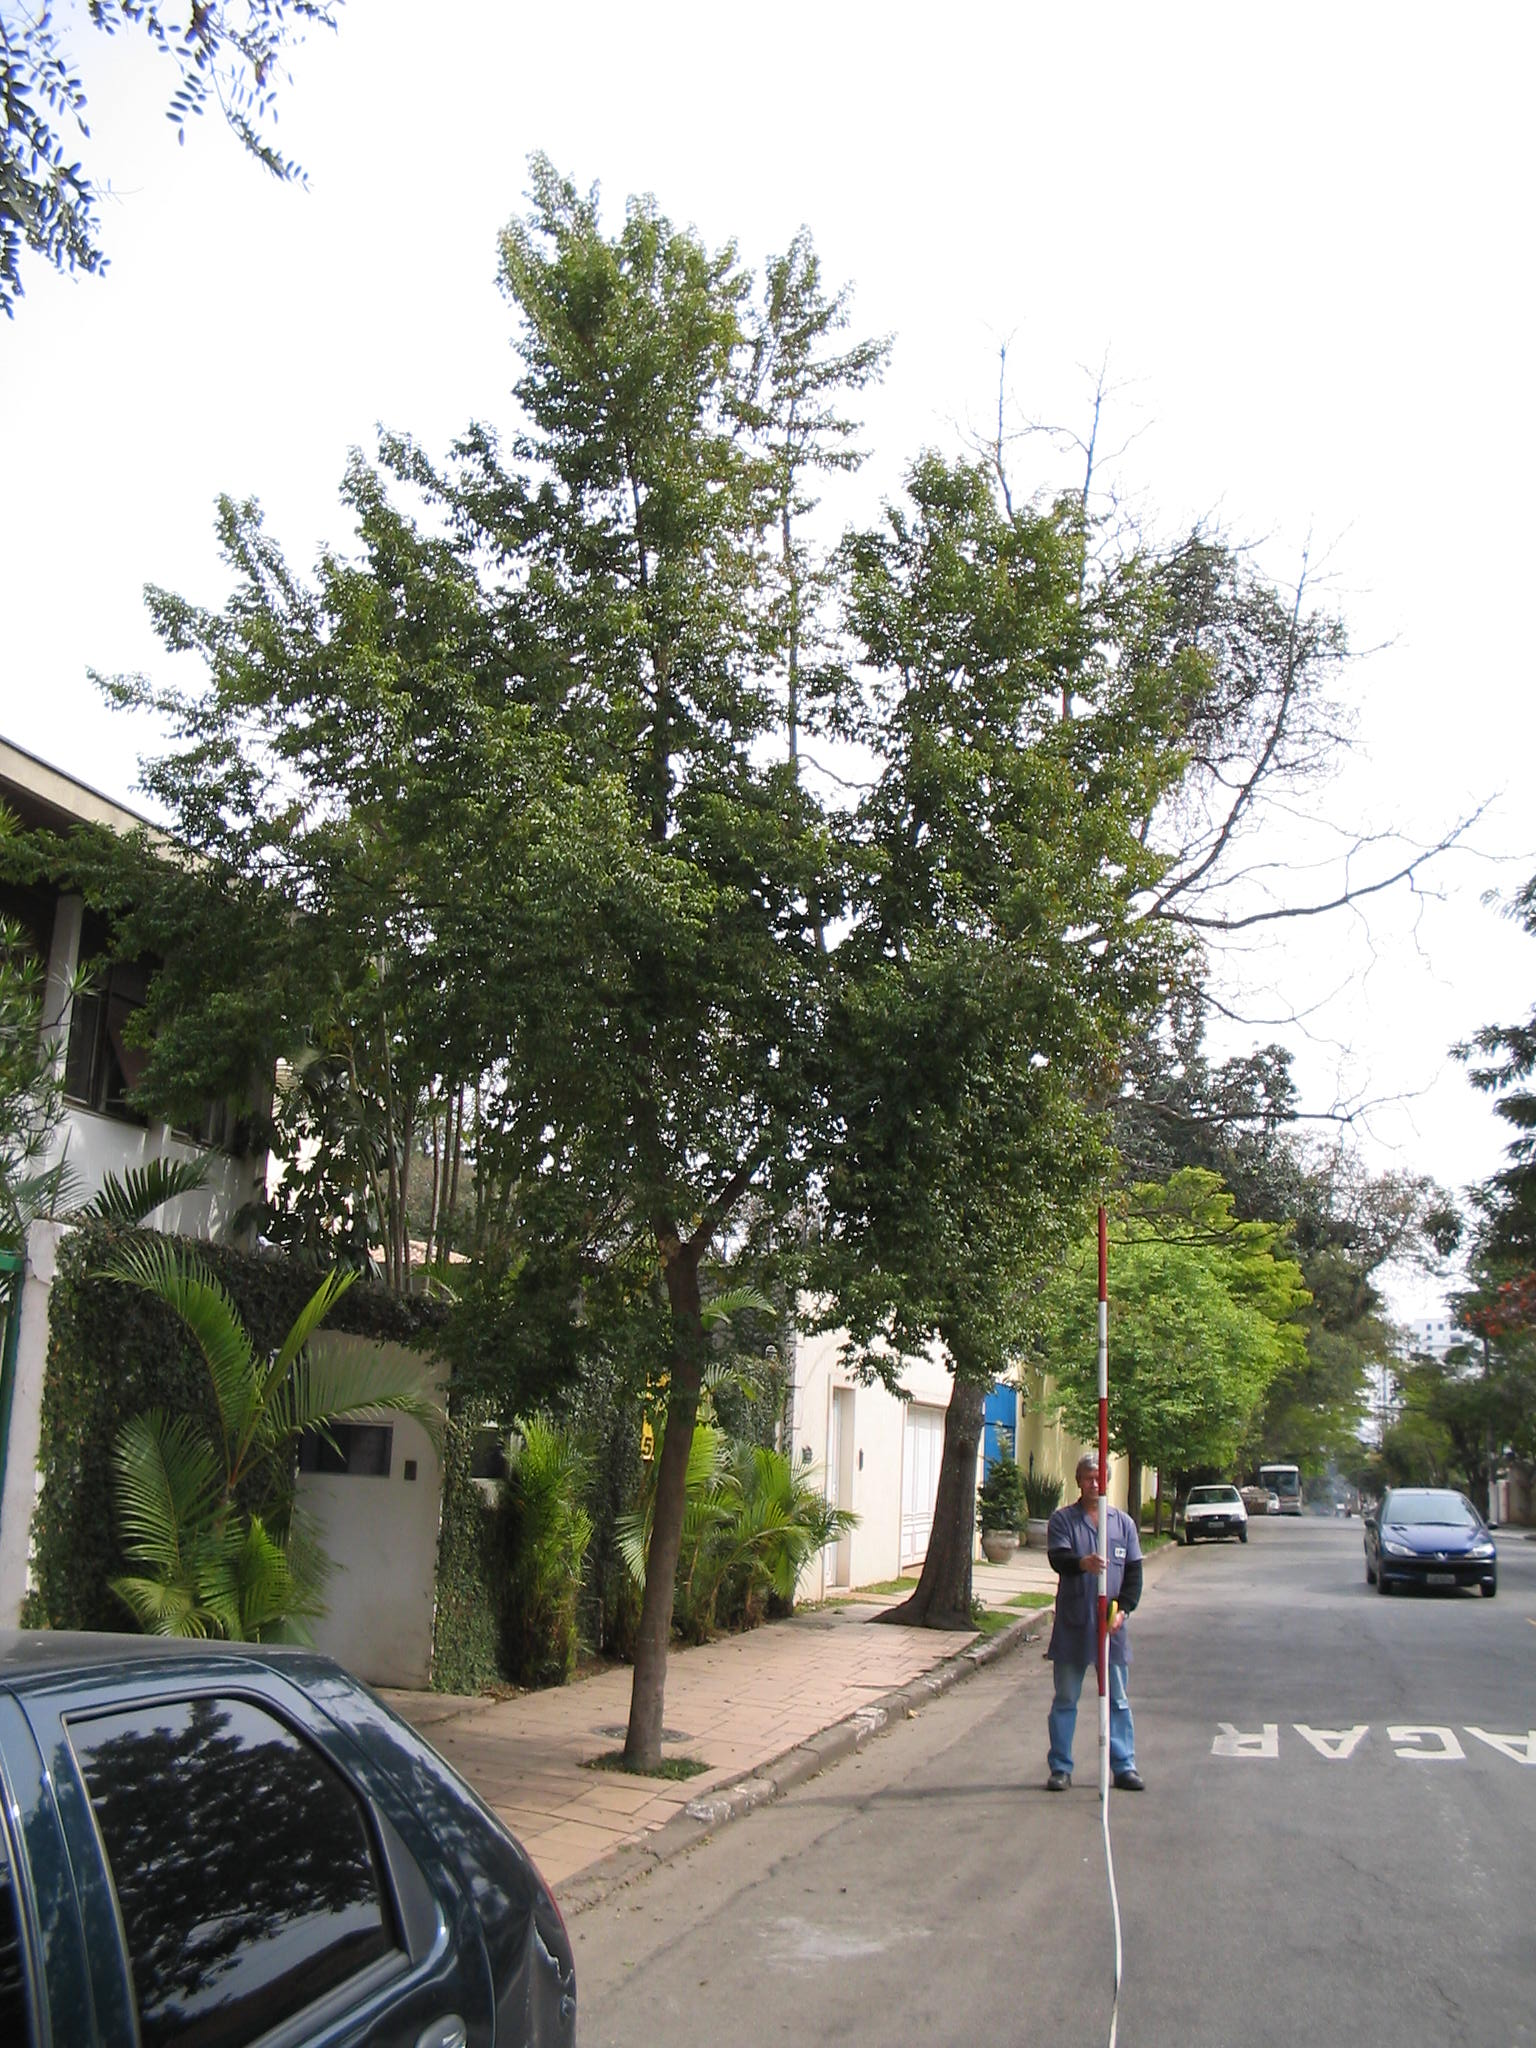crown: (90, 161, 1217, 1279)
stem: (595, 1266, 724, 1771), (874, 1361, 1025, 1629)
stick: (1065, 1208, 1154, 1796)
tree: (81, 153, 1236, 1766)
